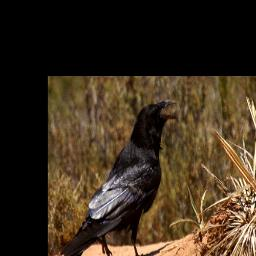Crow: (59, 100, 177, 256)
